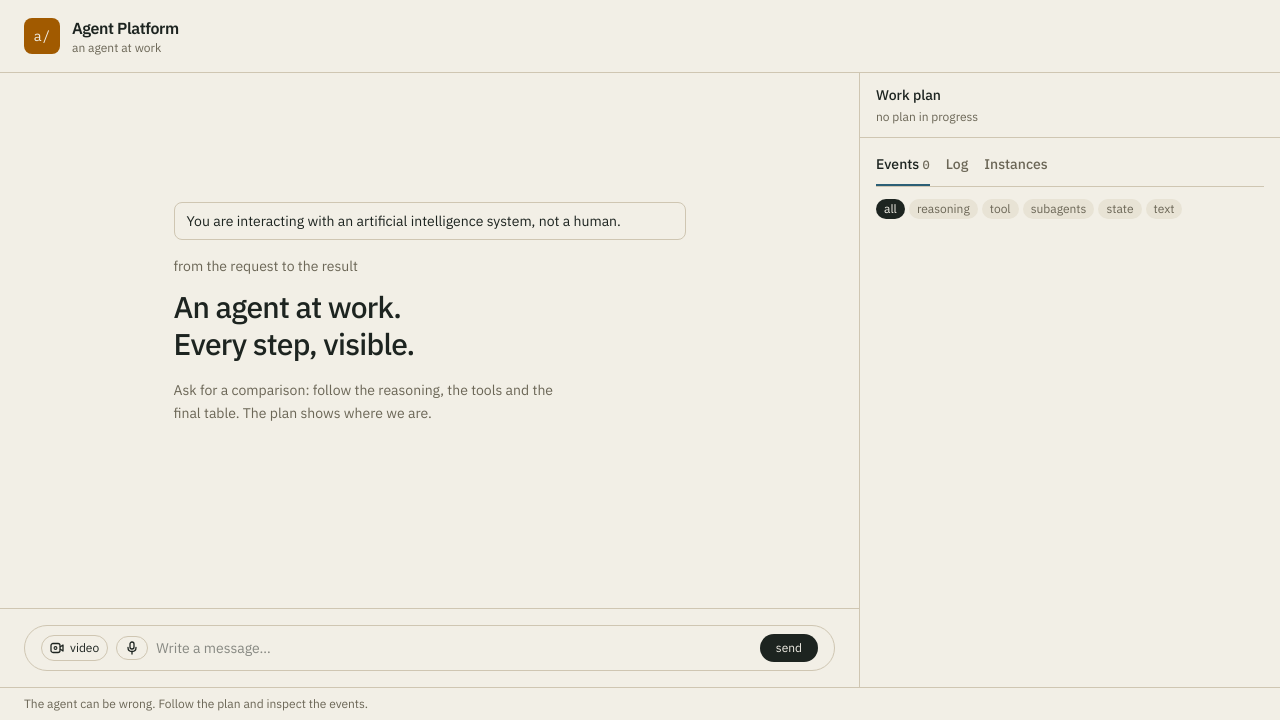
Test case: Lab › a voice turn lands in the same timeline as a typed one, and stopping re-enables typing
Click the button named "talk to the agent".
click(132, 648)  # box [116,636,148,660]
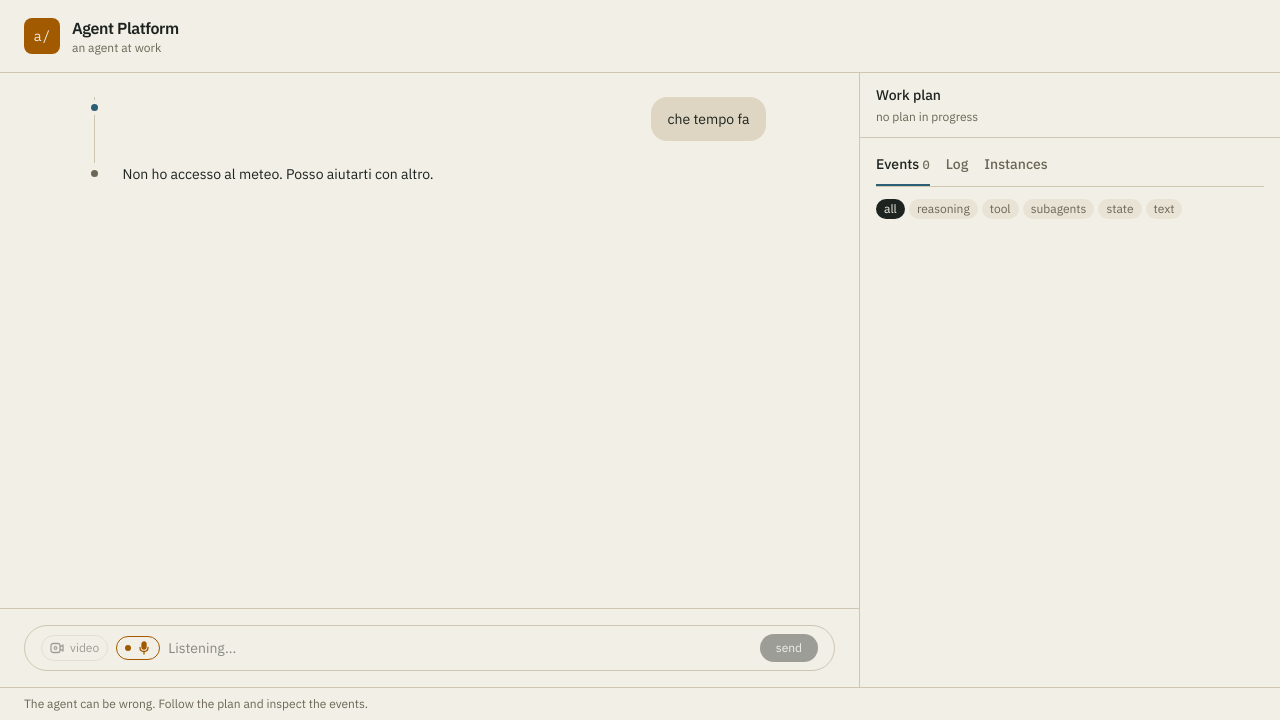
Check: the field named "Message" is disabled, box [168,638,752,658]
Check: the text "che tempo fa" is shown, box [652,97,766,141]
Check: the text "Non ho accesso al meteo. Posso aiutarti con altro." is shown, box [122,165,434,183]
Click the button named "stop talking".
click(138, 648)  # box [116,636,160,660]
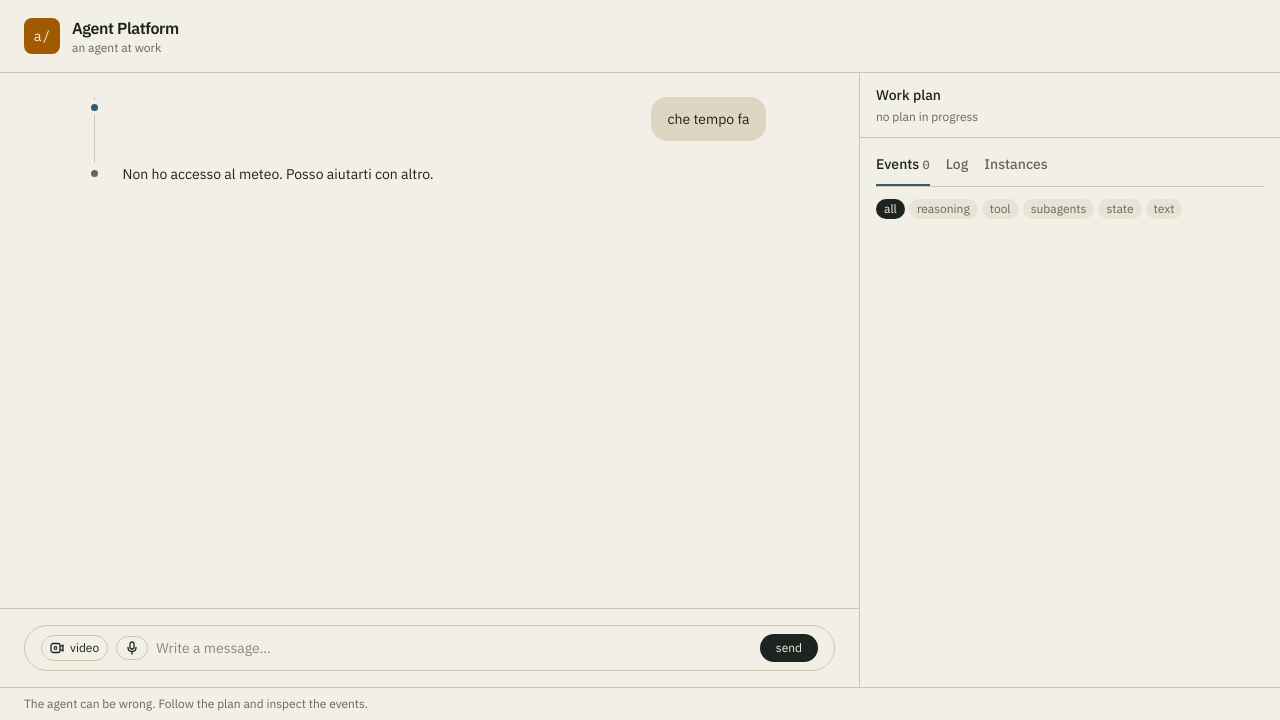
Check: the field labelled "message" is enabled, box [156,638,752,658]
